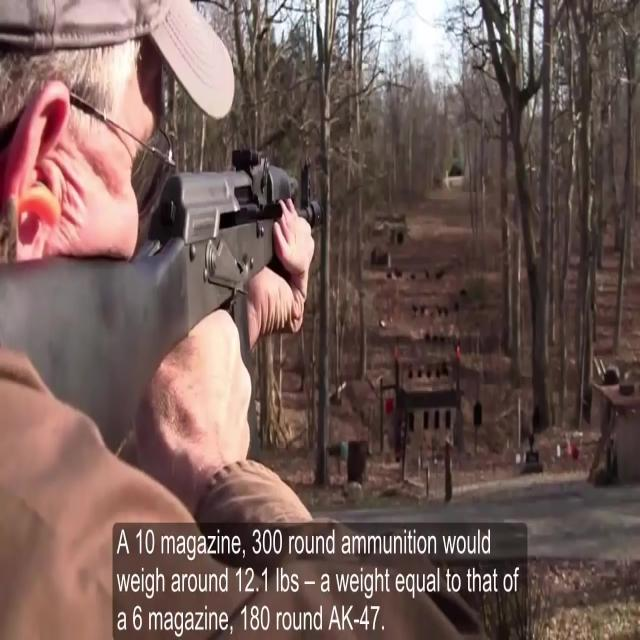Weapon: (0, 114, 388, 525)
